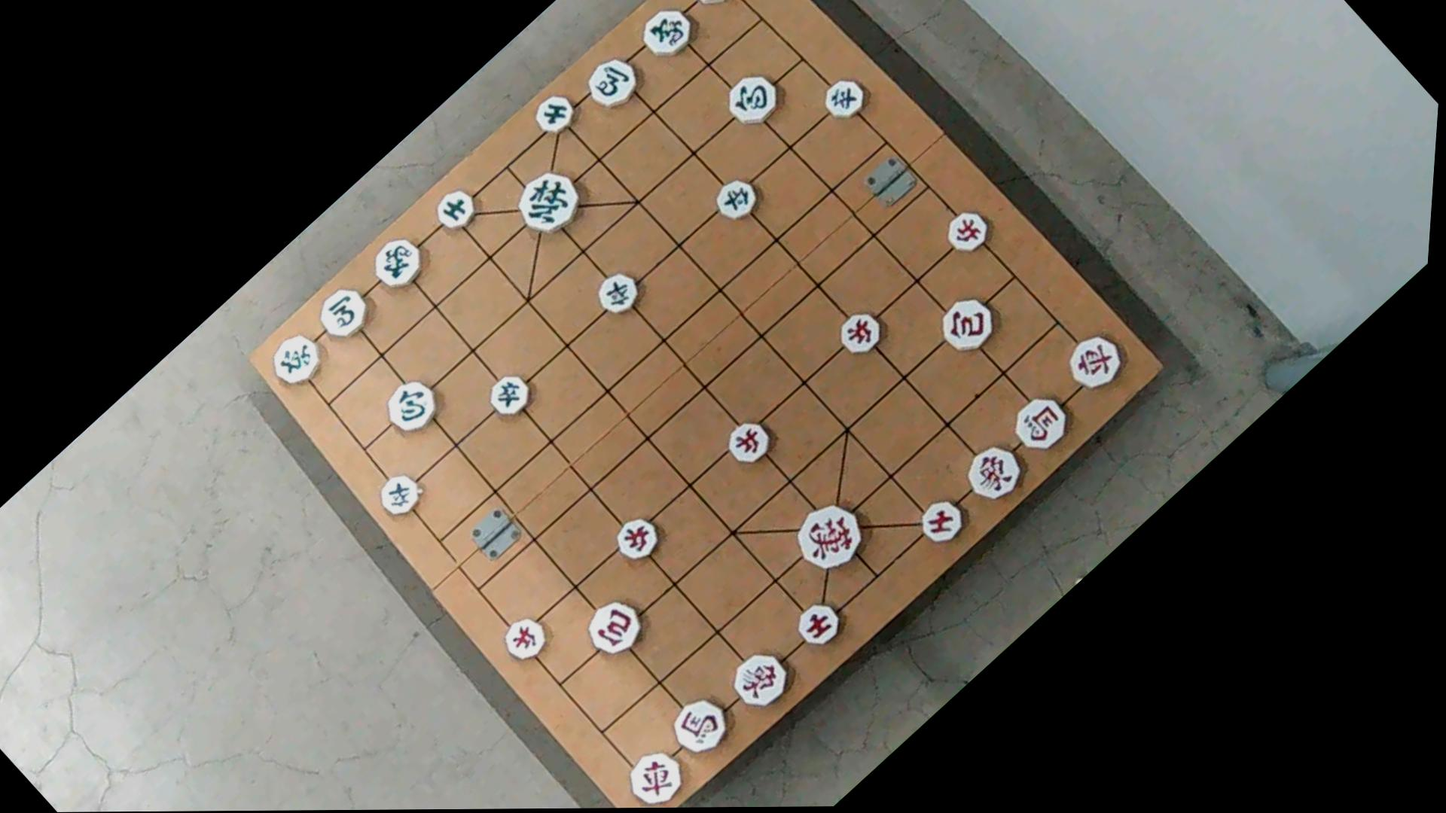cha_green: (258, 326, 331, 396), (679, 0, 743, 11)
cha_red: (1057, 327, 1130, 396), (619, 743, 694, 808)
jol_green: (706, 172, 764, 227), (589, 266, 647, 321), (484, 367, 541, 422), (373, 467, 431, 520), (818, 72, 873, 123)
jol_red: (830, 304, 889, 360), (719, 416, 779, 471), (607, 510, 666, 565), (493, 613, 551, 668), (938, 202, 996, 257)
ma_green: (575, 44, 650, 115), (308, 282, 377, 347)
ma_red: (665, 690, 740, 760), (1003, 391, 1076, 459)
po_green: (718, 65, 789, 132), (378, 373, 449, 439)
po_red: (578, 592, 654, 662), (929, 289, 1003, 360)
sa_green: (426, 185, 483, 239), (528, 88, 584, 141)
sa_red: (911, 489, 973, 549), (789, 598, 847, 654)
sang_green: (361, 230, 433, 298), (632, 1, 701, 65)
sang_red: (723, 644, 797, 714), (956, 436, 1030, 506)
wang_green: (505, 161, 590, 242)
wang_red: (787, 495, 877, 579)
